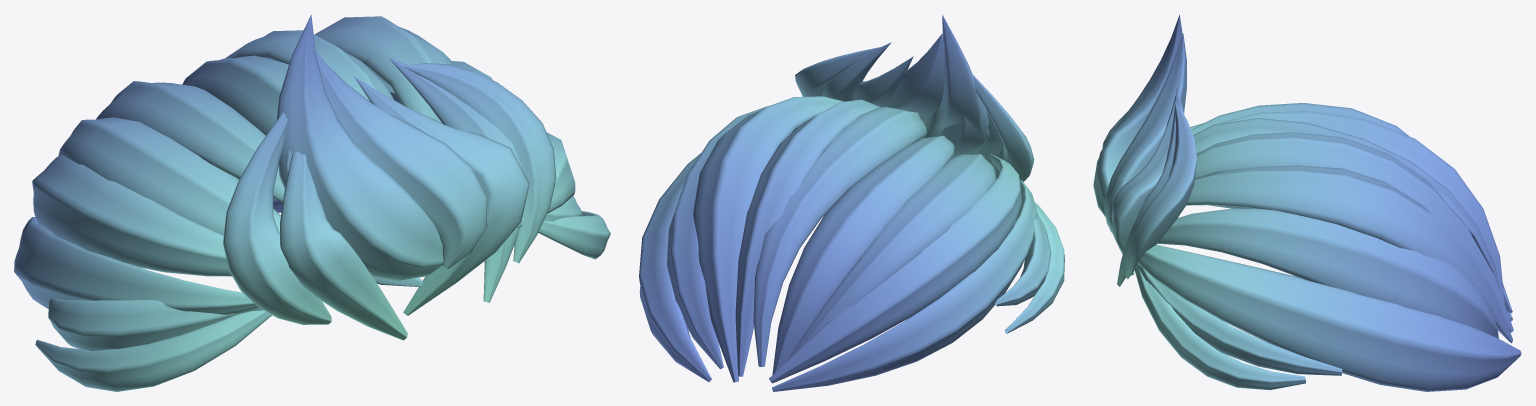
Rendered from hairc4.fbx.
The picture shows the model from 3 angles, left to right: view 1: azimuth 30°, elevation 25°; view 2: azimuth 150°, elevation 25°; view 3: azimuth 270°, elevation 25°; orthographic projection. The views are drawn at different scales.
Parts seen in each view (by area): view 1: NurbsPath.029; view 2: NurbsPath.029; view 3: NurbsPath.029.
Boxes of the visible parts, x1,y1,x2,y2 form: NurbsPath.029: (14, 14, 610, 391); NurbsPath.029: (639, 15, 1064, 391); NurbsPath.029: (1093, 14, 1521, 391).
Bounding box in the file's own units: 249 × 267 × 193.
